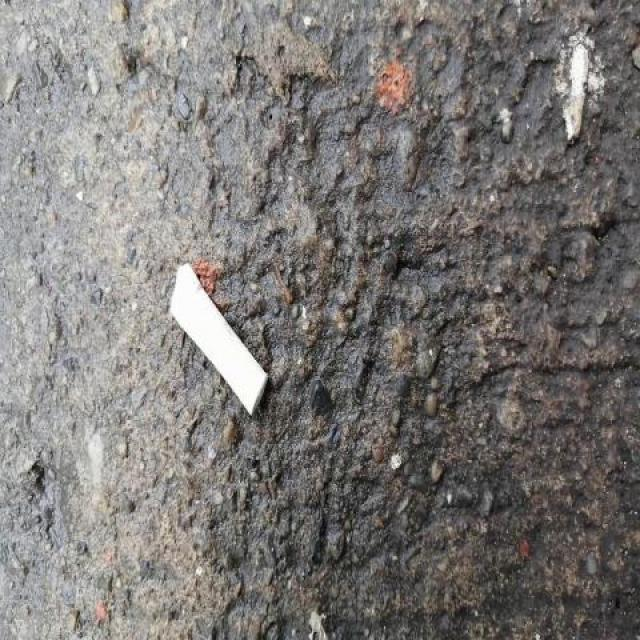non-organic waste: (161, 260, 271, 420)
